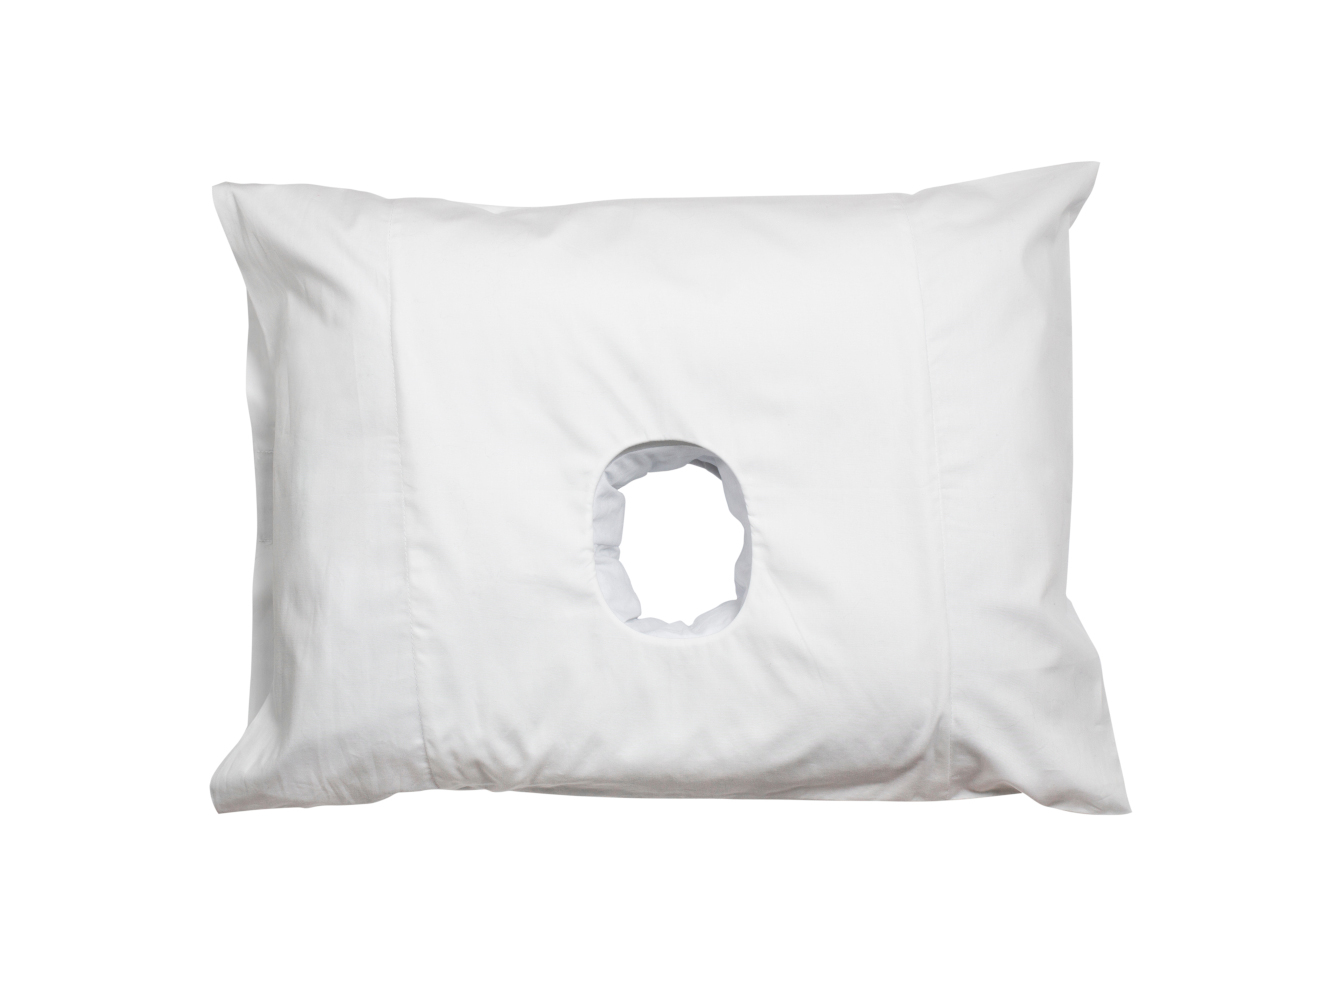bantal: (179, 148, 1135, 844)
